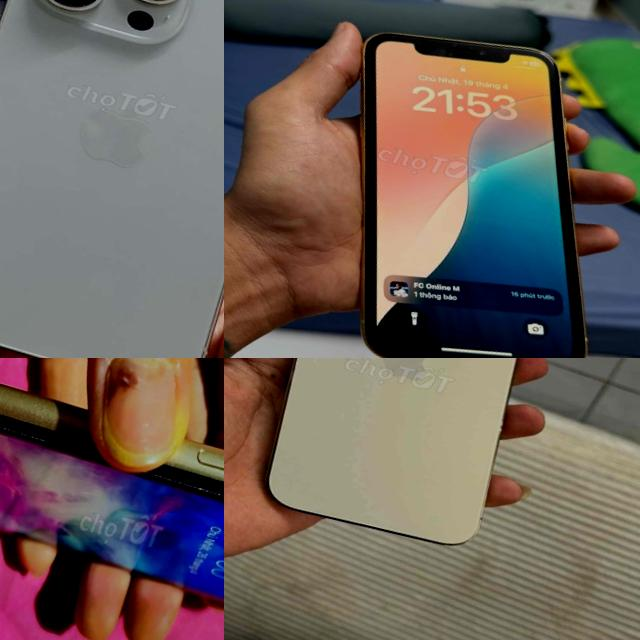scratch: (150, 466, 224, 560), (0, 379, 53, 447), (190, 442, 212, 456)
